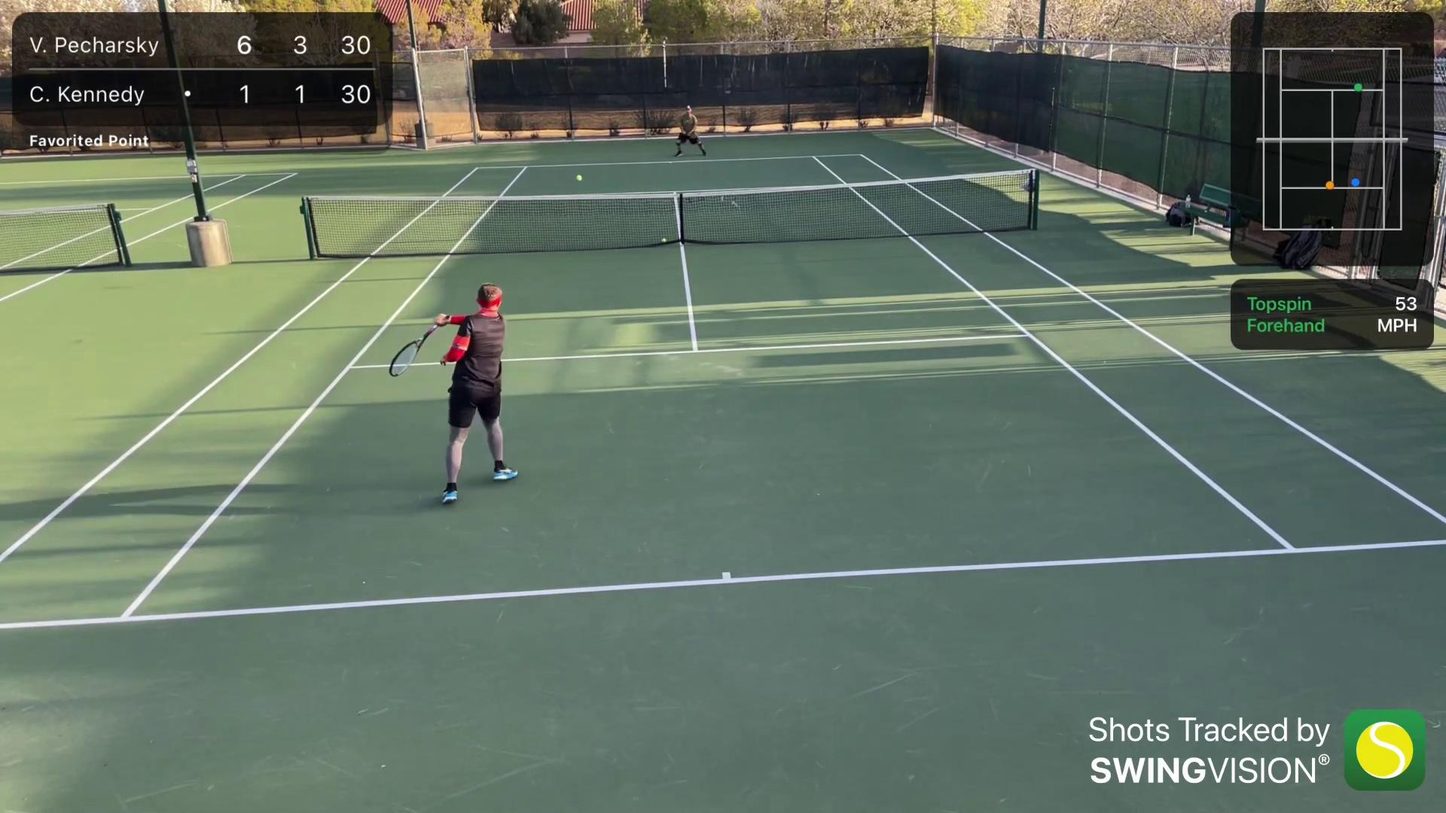ball: (574, 175, 585, 181), (305, 304, 313, 311), (660, 236, 667, 242)
